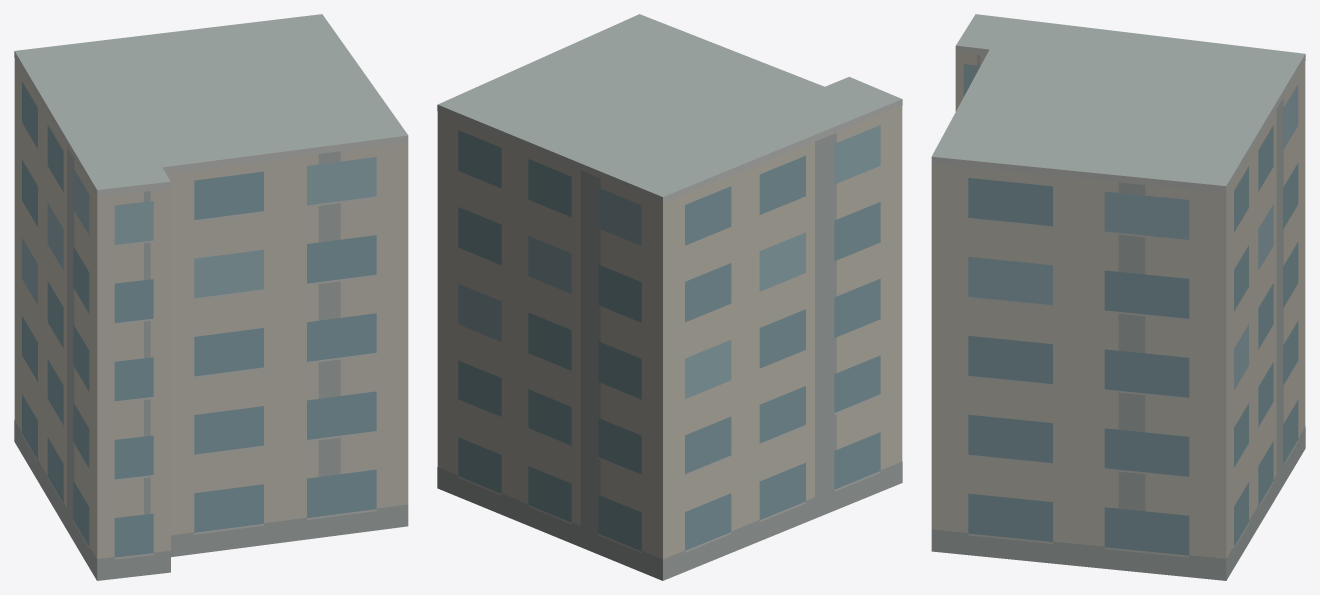
The model's file is survey-upis-32905459.glb.
3 renders of one model, left to right at view 1: azimuth 30°, elevation 25°; view 2: azimuth 150°, elevation 25°; view 3: azimuth 270°, elevation 25°, orthographic. The views are drawn at different scales.
Visible parts, largest first — view 1: survey-upis-32905459.tmp; view 2: survey-upis-32905459.tmp; view 3: survey-upis-32905459.tmp.
Boxes of the visible parts, bbox=[...] form: survey-upis-32905459.tmp: bbox=[14, 14, 408, 580]; survey-upis-32905459.tmp: bbox=[437, 14, 902, 580]; survey-upis-32905459.tmp: bbox=[931, 14, 1305, 580].
Bounding box in the file's own units: 12.82 × 13.7 × 11.77.
